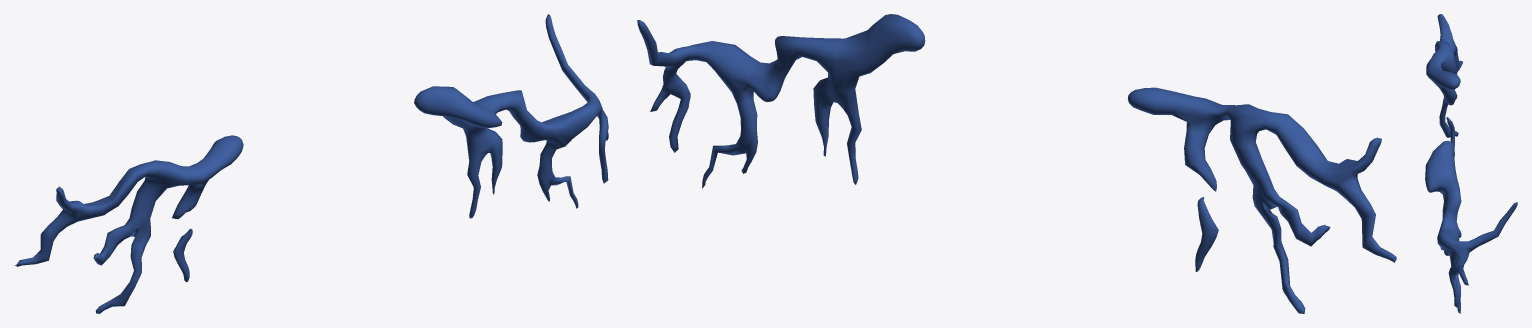
Rendered from Roots_02.fbx.
3 renders of one model, left to right at view 1: azimuth 30°, elevation 25°; view 2: azimuth 150°, elevation 25°; view 3: azimuth 270°, elevation 25°, orthographic. The views are drawn at different scales.
Parts seen in each view (by area): view 1: Hangar_Roots_02; view 2: Hangar_Roots_02; view 3: Hangar_Roots_02.
Boxes of the visible parts, x1,y1,x2,y2 form: Hangar_Roots_02: (14, 14, 608, 313); Hangar_Roots_02: (637, 14, 1396, 313); Hangar_Roots_02: (1425, 14, 1517, 313).
Size of the model in its own units: 38401 by 10243 by 7250.
